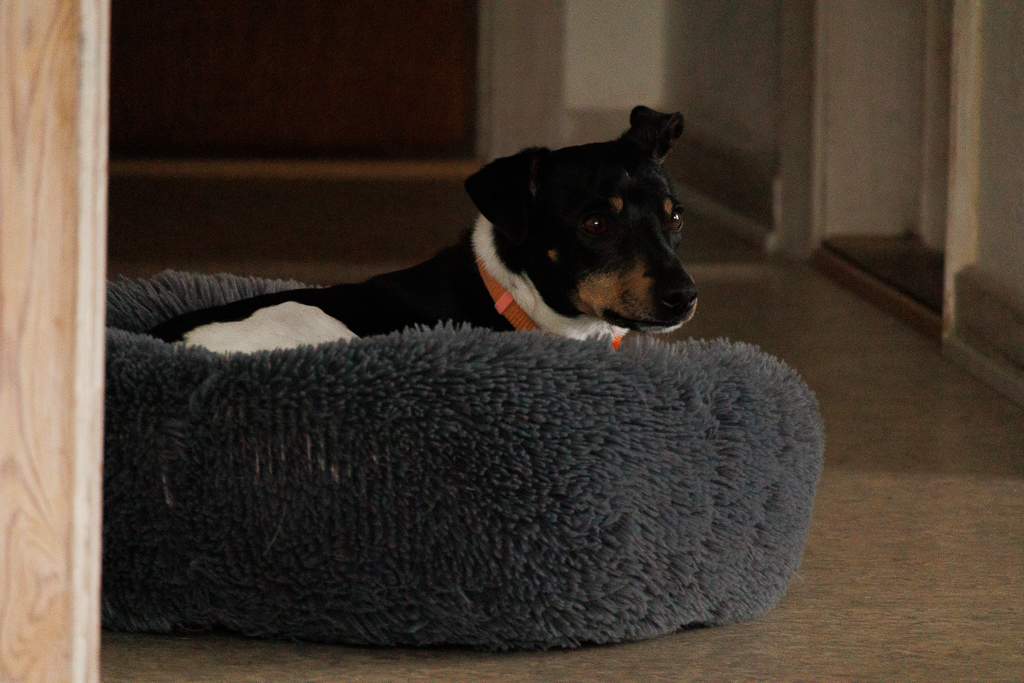Dog: (117, 92, 717, 369)
